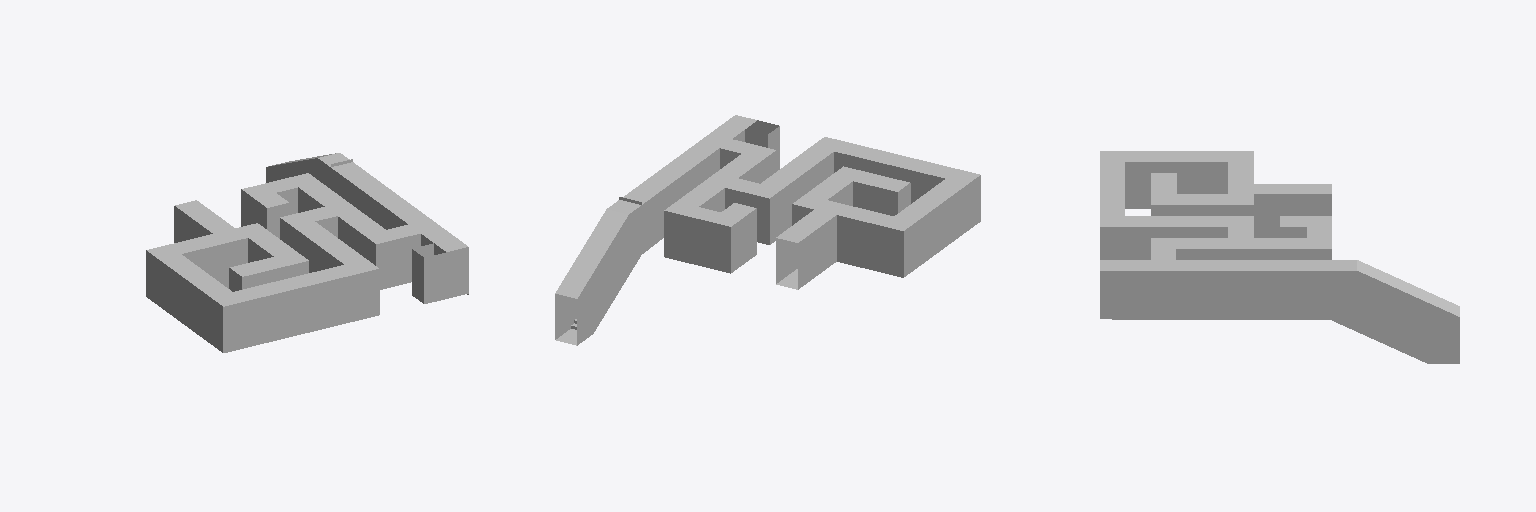
The model's file is floor_maze.obj.
3 renders of one model, left to right at view 1: azimuth 30°, elevation 25°; view 2: azimuth 150°, elevation 25°; view 3: azimuth 270°, elevation 25°, orthographic.
Bounding box in the file's own units: 1100 × 413 × 1400.